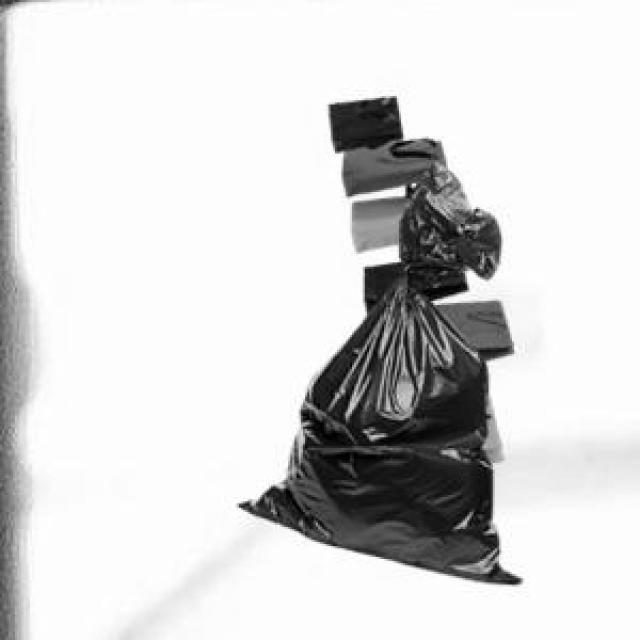miscellaneous trash: (235, 160, 515, 580)
paper: (326, 94, 510, 390)
